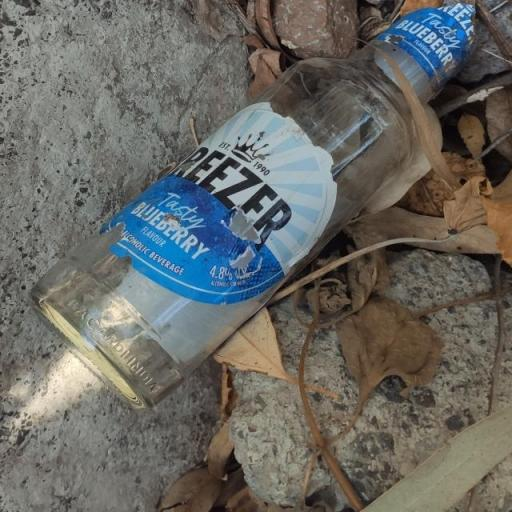glass: (13, 0, 512, 419)
